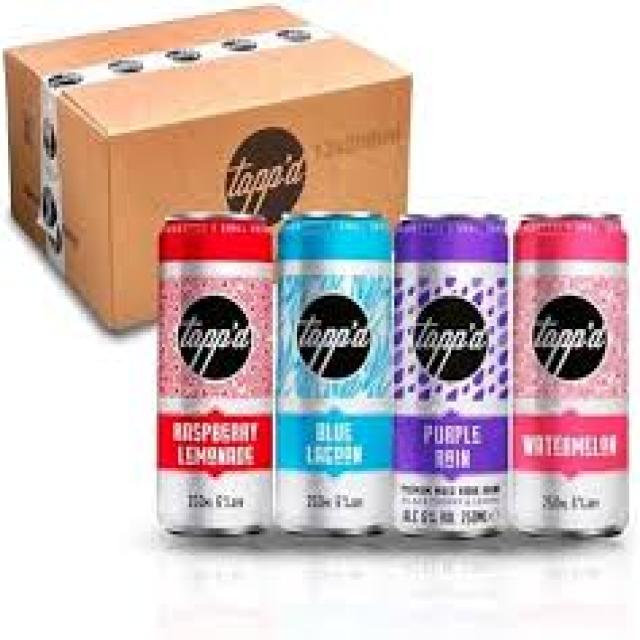Cans: (143, 202, 278, 538), (267, 205, 400, 540), (505, 212, 637, 546), (386, 208, 516, 540)
